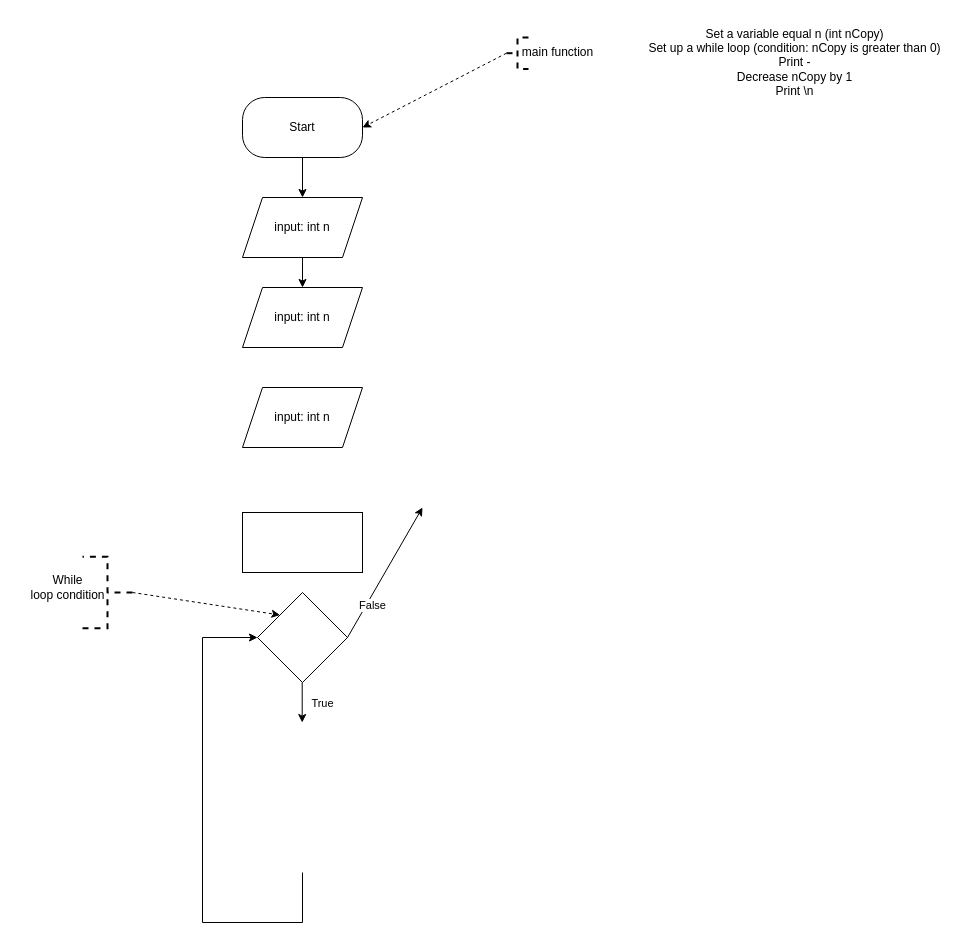
The diagram is 966 pixels wide and 948 high, and some of its shapes have lost their labels. The shapes that lost their labels are listed below. From the top down, each one's centre as x and y in pixels, then its label:
[302,542]: initialize int nCopy n
[302,637]: condition: if nCopy > 0
